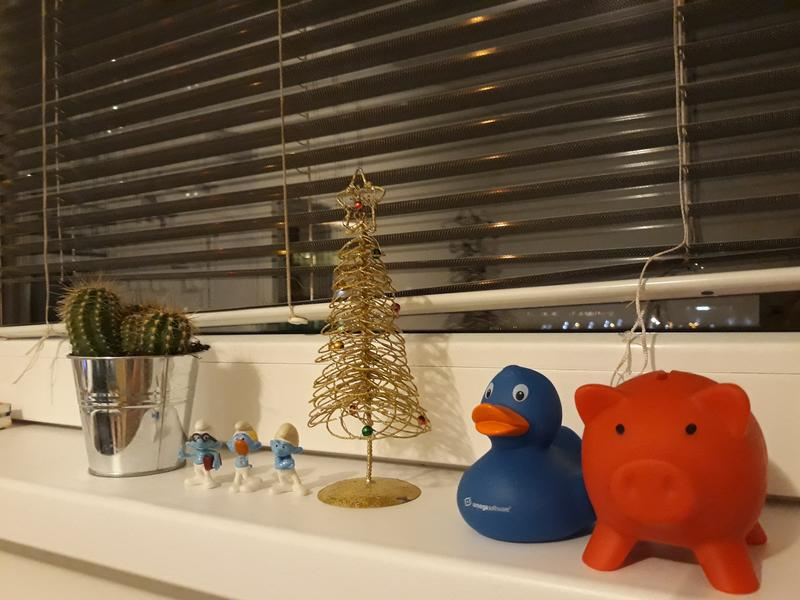foi_gujdica: (568, 356, 786, 593)
plava_patkica: (454, 347, 595, 566)
strumf: (267, 421, 305, 502), (225, 419, 259, 501), (181, 415, 217, 490)
